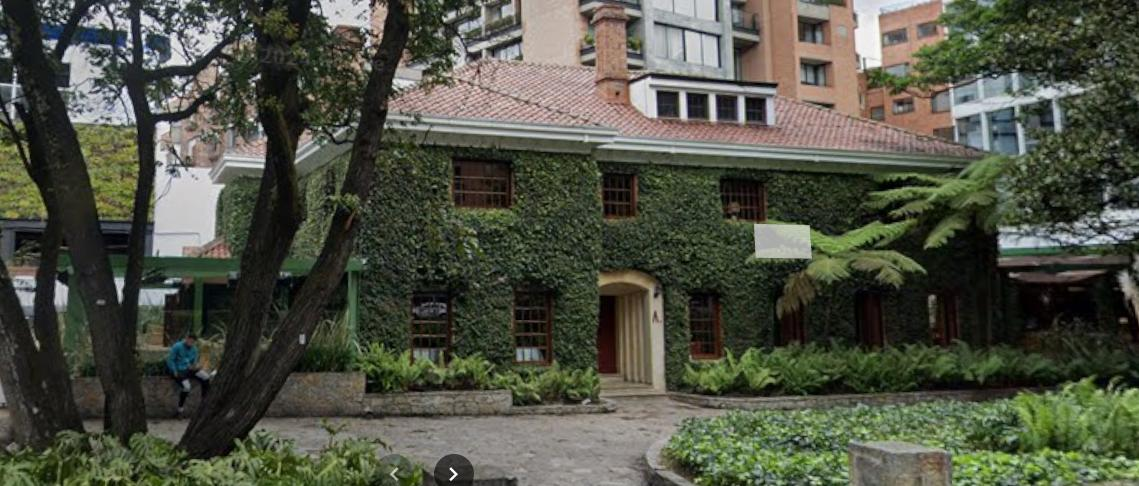casa: (291, 41, 1138, 414)
